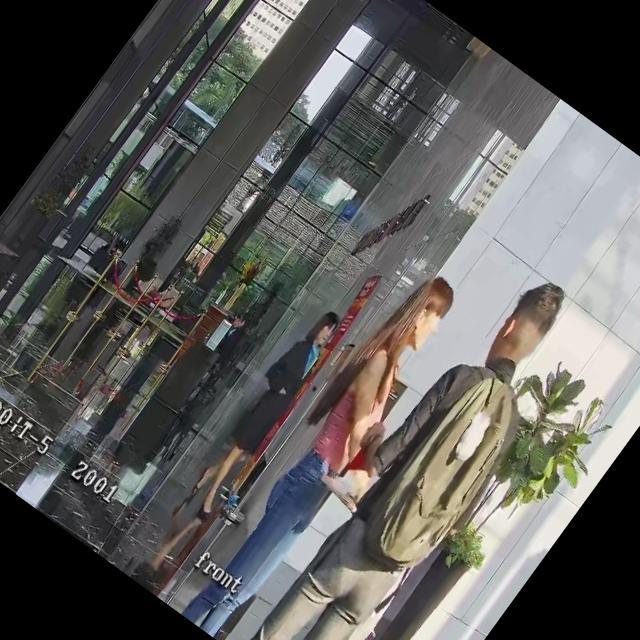person: (226, 252, 604, 640), (168, 259, 472, 640), (176, 300, 352, 518), (208, 309, 256, 366)
